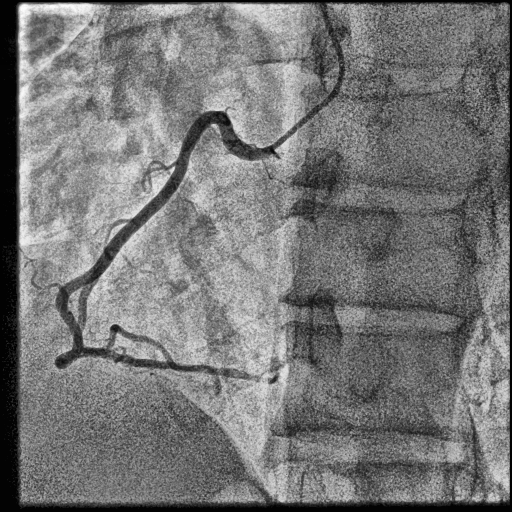rca: (55, 110, 279, 385)
